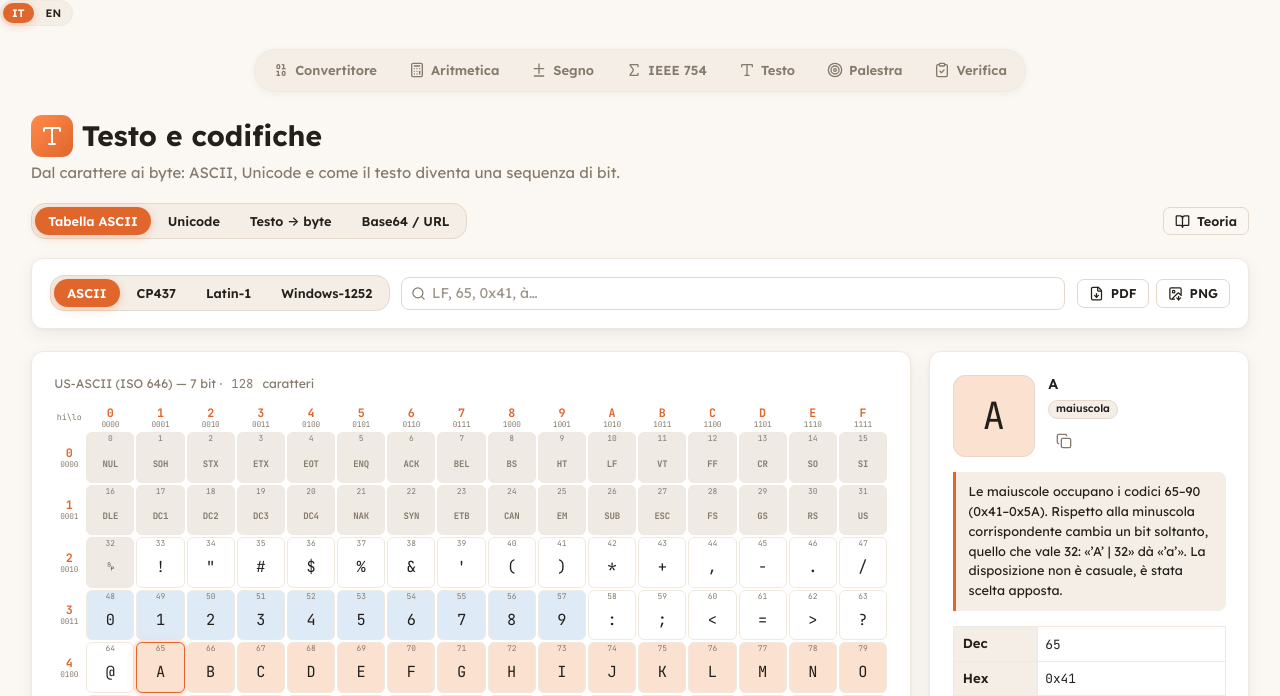
Scenario: Spiegazioni e teoria › apre la modale teorica e la chiude con Esc
Click the button "Teoria" at (1206, 221), box [1163,207,1249,236]
(page scrolled)
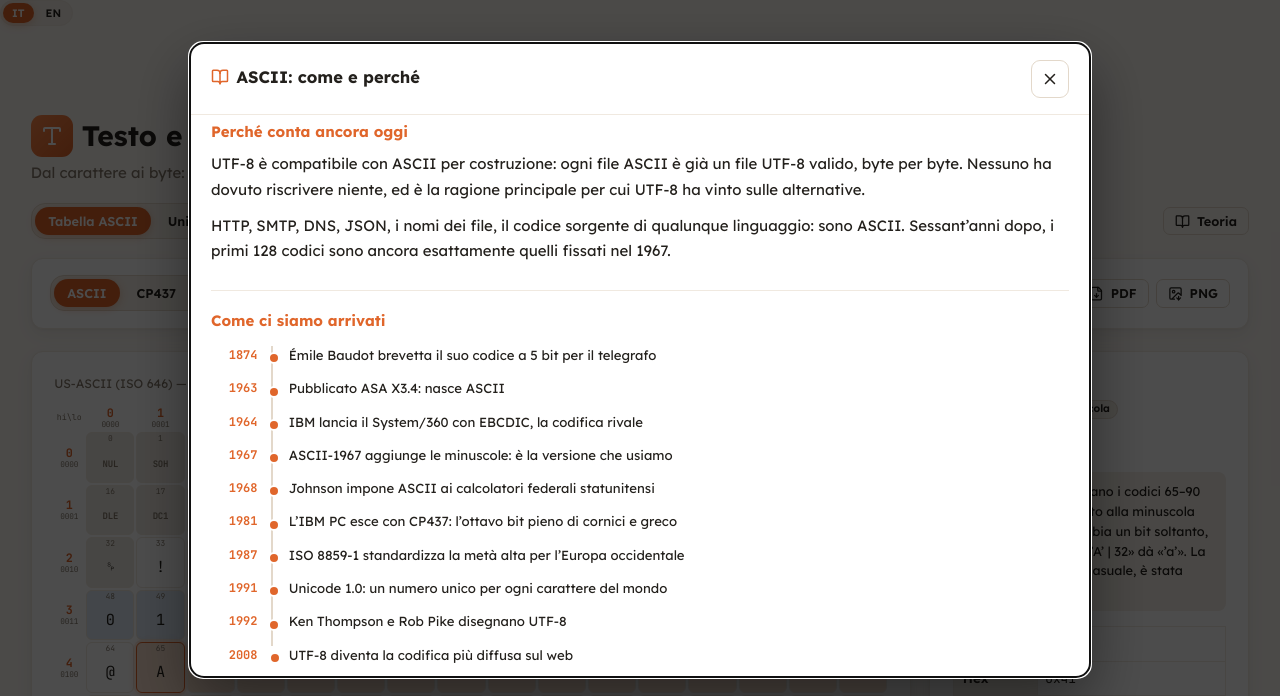
Now the dialog is shown
Now the text "ASCII: come e perché" is shown, box [211,65,420,89]
Now the heading "Come ci siamo arrivati" is shown, box [211,311,386,330]
Press Escape
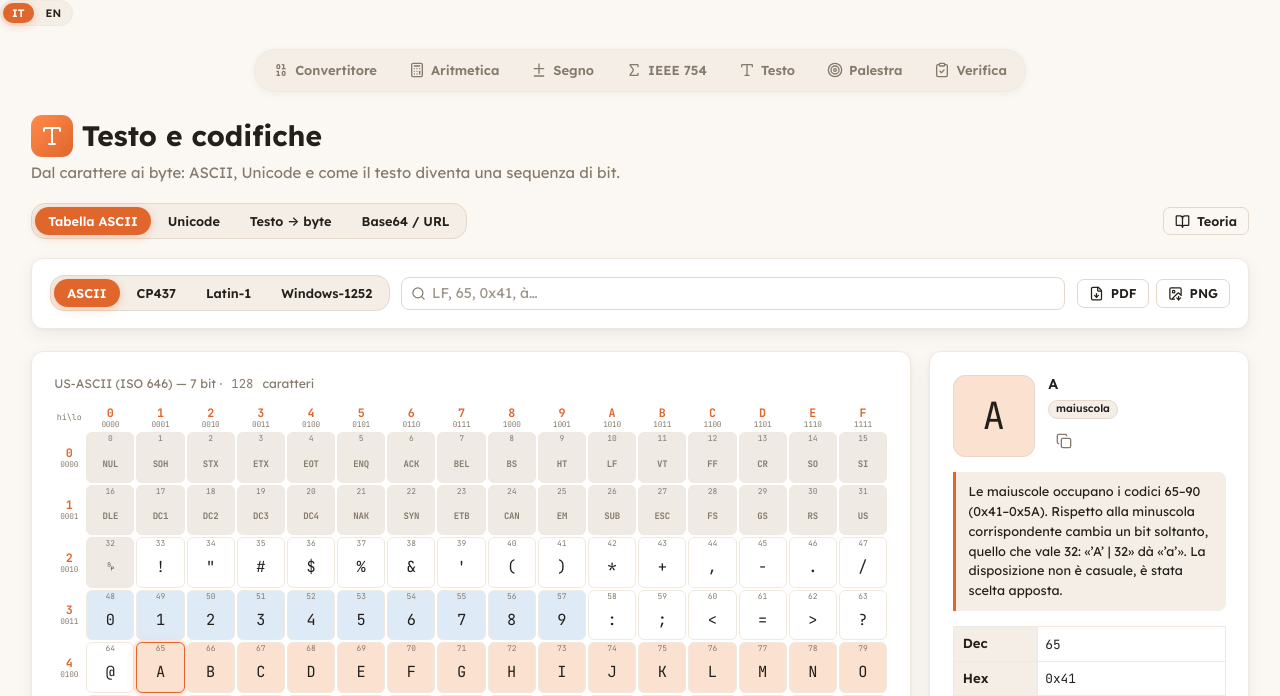
Now the dialog is gone
